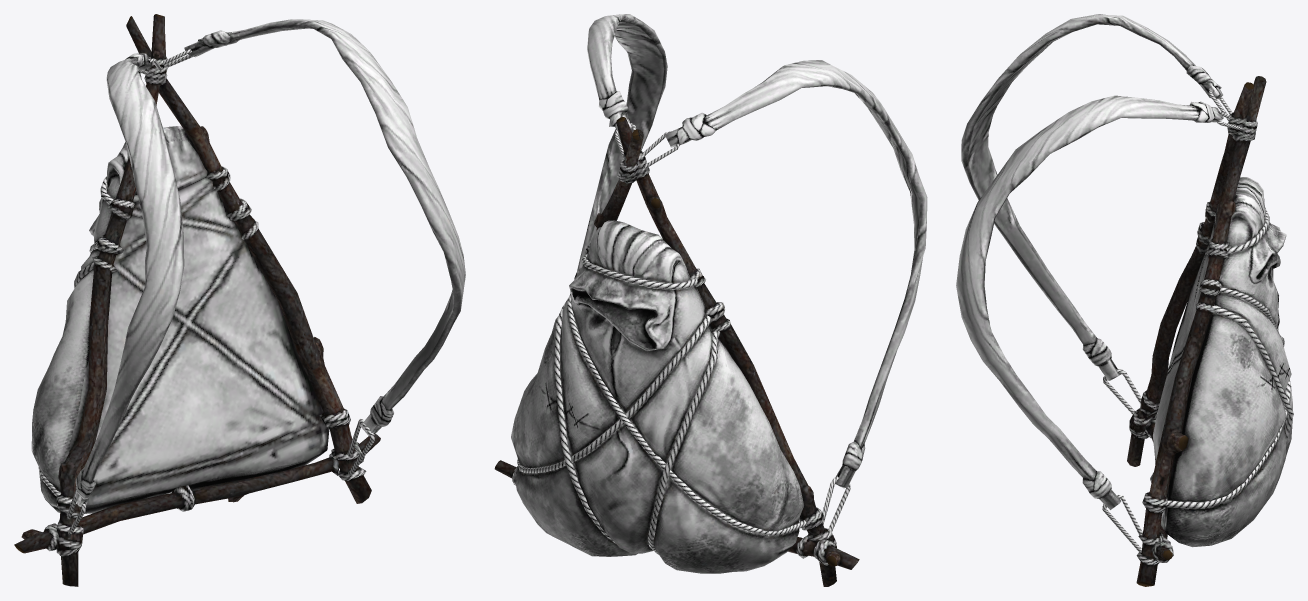
The model's file is SurvivorMale_Back_Backpack_Makeshift_LOD0.glb.
3 views of the same model, side by side, from view 1: azimuth 30°, elevation 25°; view 2: azimuth 150°, elevation 25°; view 3: azimuth 270°, elevation 25° (orthographic). The views are drawn at different scales.
Parts seen in each view (by area): view 1: Hoodie; view 2: Hoodie; view 3: Hoodie.
Boxes of the visible parts, bbox=[...] form: Hoodie: bbox=[14, 14, 465, 586]; Hoodie: bbox=[494, 14, 927, 586]; Hoodie: bbox=[956, 14, 1293, 586].
Size of the model in its own units: 0.3919 by 0.5249 by 0.3402.
1 material, 1 textured.
